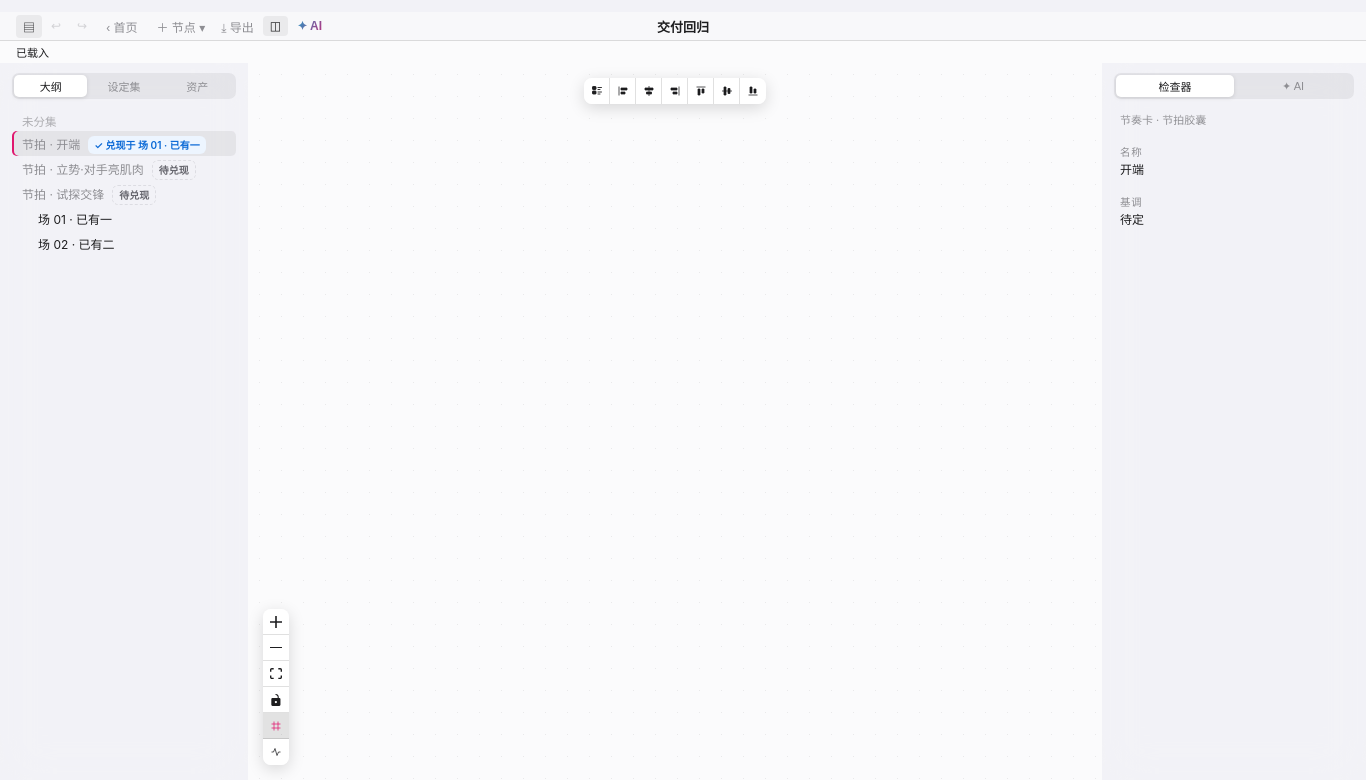
Test: 发送给模型的完整场景插入示例 › 替换旧直连、保留无关路径，确认和撤销同步画布与大纲
The image size is (1366, 780).
Click the button with aria-label "切换 AI 面板": x=310, y=26 [290,16,329,36]
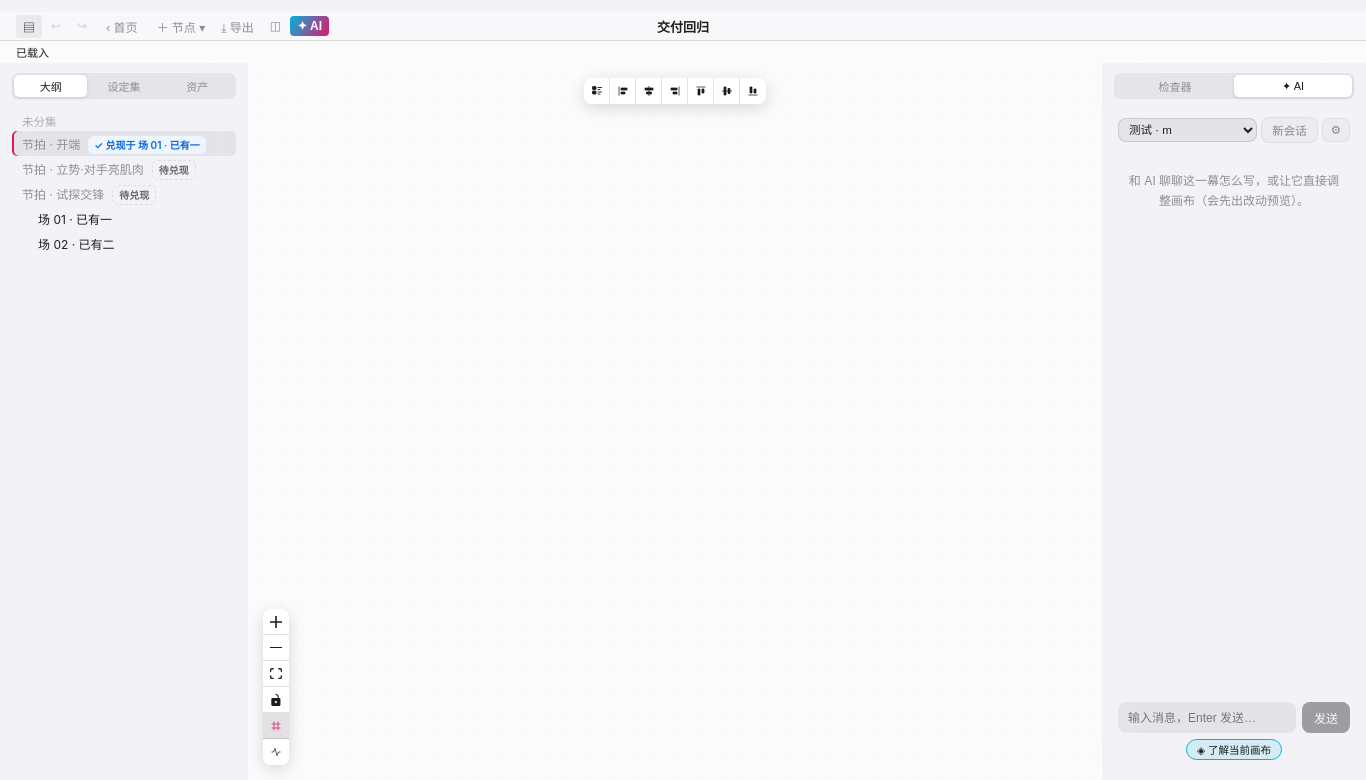
Expected: the field named "AI 对话输入" is shown
In the field named "AI 对话输入": x=1207, y=718 [1118,702,1296,733], type "在立势之后、试探交锋之前创建场景"
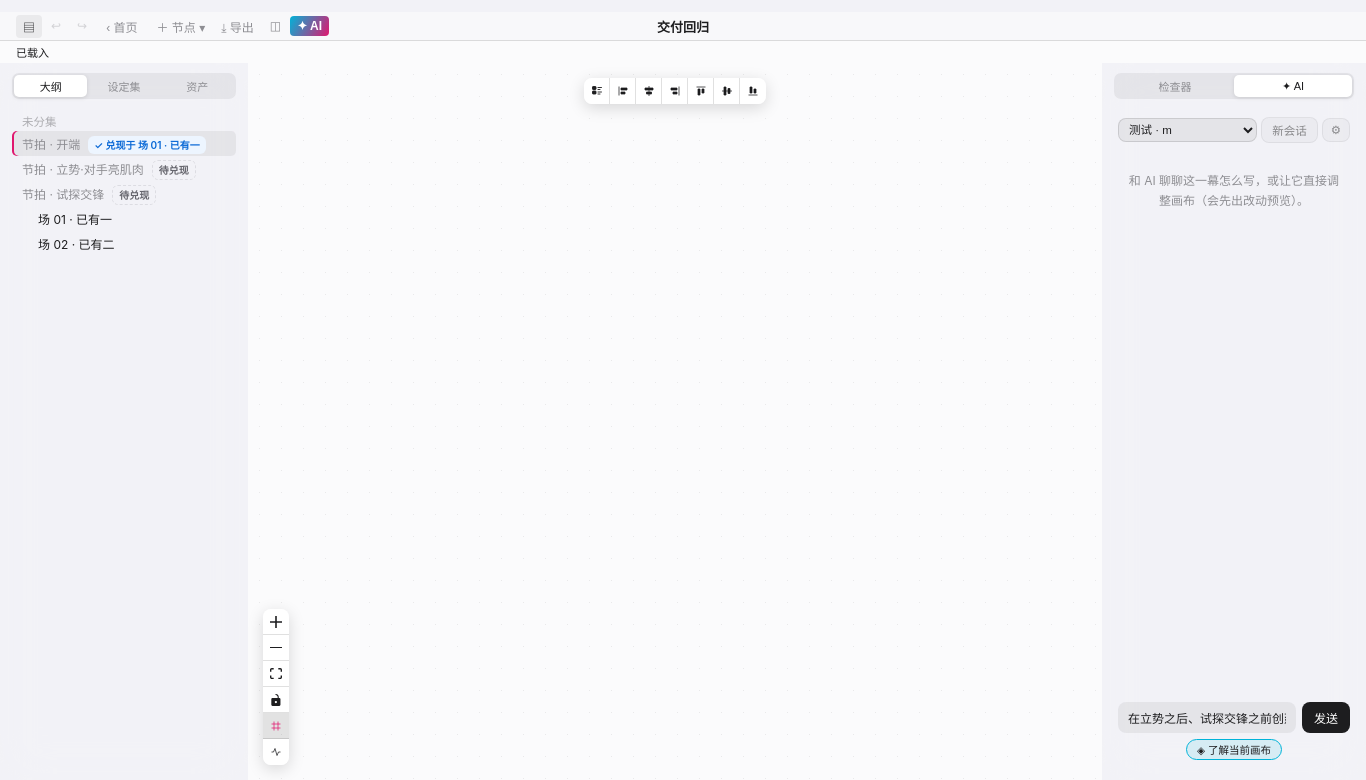
Press Enter in the field named "AI 对话输入", box [1118,702,1296,733]
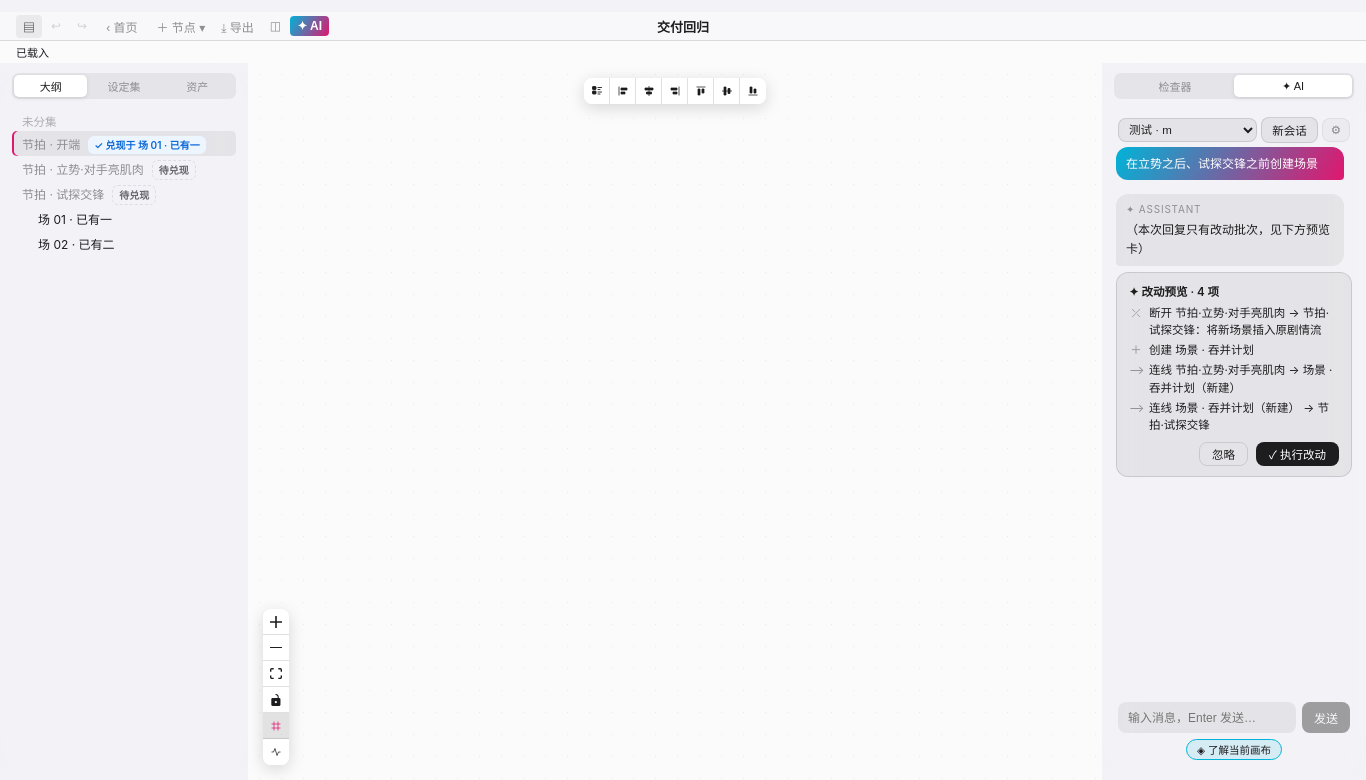
Expected: the button named "撤销" is disabled, [44,16,68,36]
Expected: the field named "AI 对话输入" is shown, [1118,702,1296,733]
Expected: the element named "AI 改动预览" is shown, [1116,272,1352,477]
Click the button "✓ 执行改动": x=1297, y=454 [1256,442,1339,466]
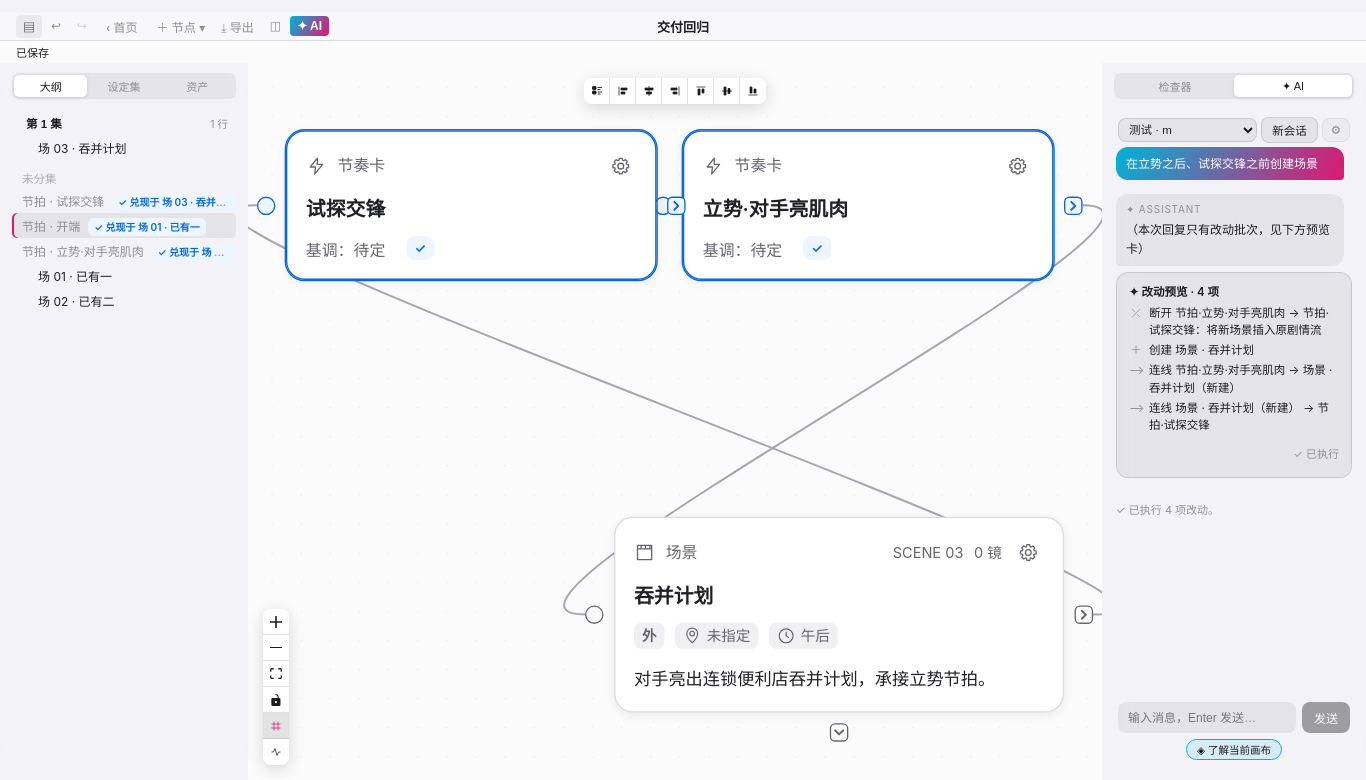
Expected: the button "吞并计划" is shown, [634,582,713,609]
Expected: the button "场 03 · 吞并计划" is shown, [12,135,236,160]
Click the button named "撤销": x=56, y=26 [44,16,68,36]
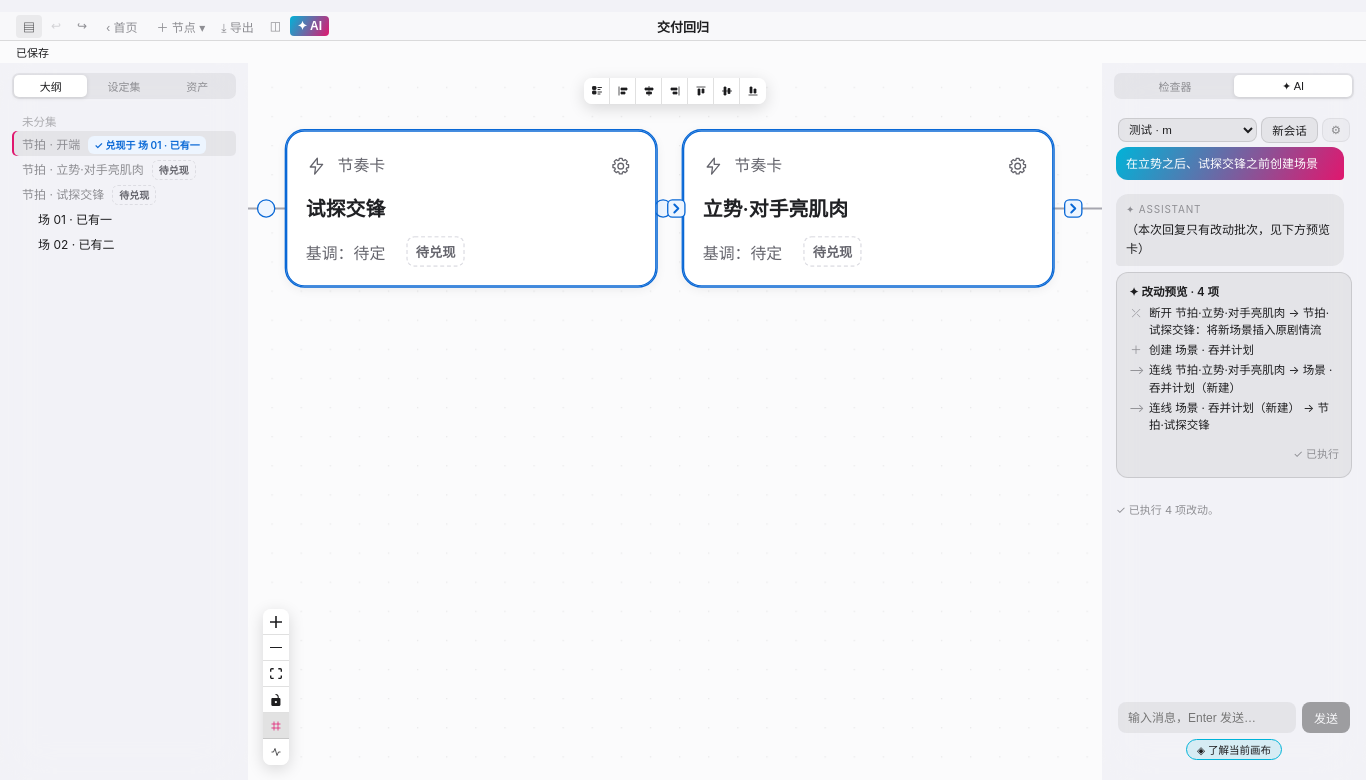
Expected: the button "场 03 · 吞并计划" is gone
